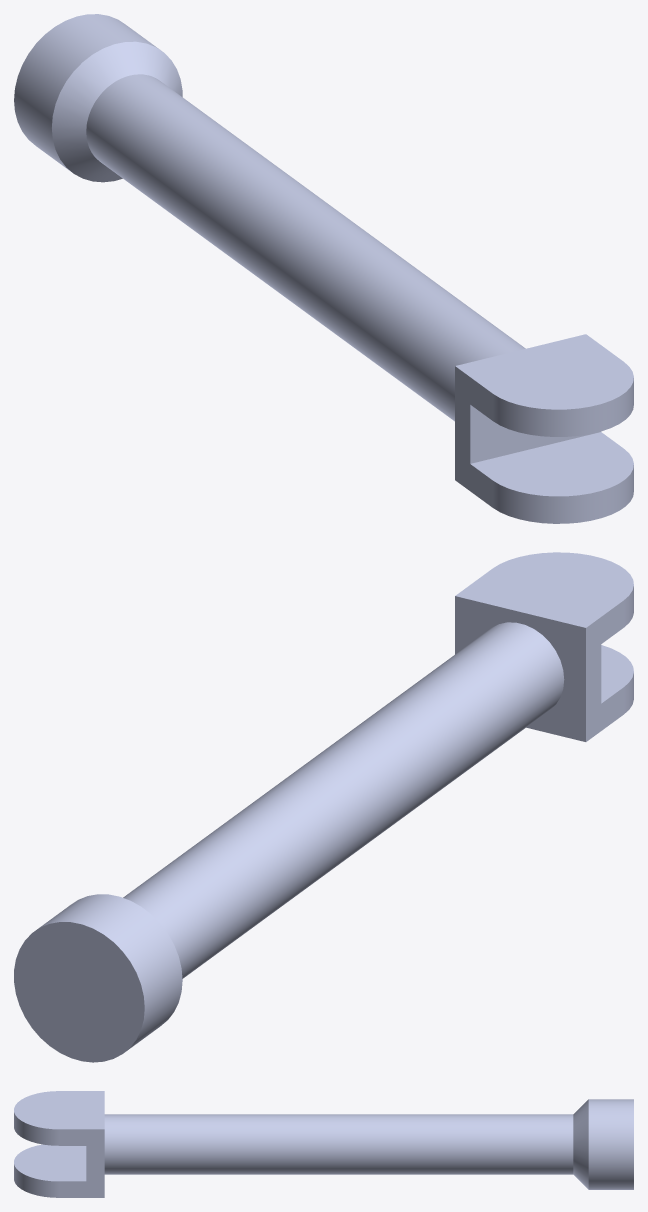
3 views of the same model, one above another, from view 1: azimuth 30°, elevation 25°; view 2: azimuth 150°, elevation 25°; view 3: azimuth 270°, elevation 25° (orthographic). The views are drawn at different scales.
Visible parts, largest first — view 1: Part7; view 2: Part7; view 3: Part7.
Boxes of the visible parts, x1,y1,x2,y2 form: Part7: (14,14,633,523); Part7: (14,552,633,1062); Part7: (14,1091,633,1197).
Size of the model in its own units: 0.06 by 0.0599 by 0.4099.
